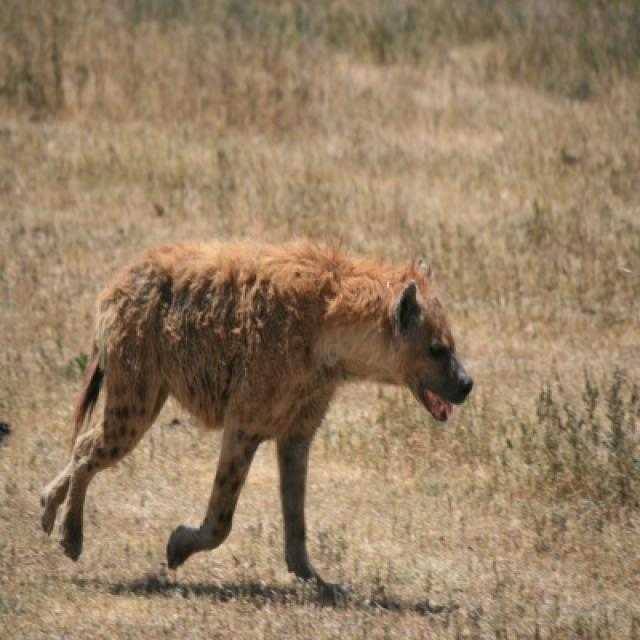hyena: (40, 240, 475, 602)
